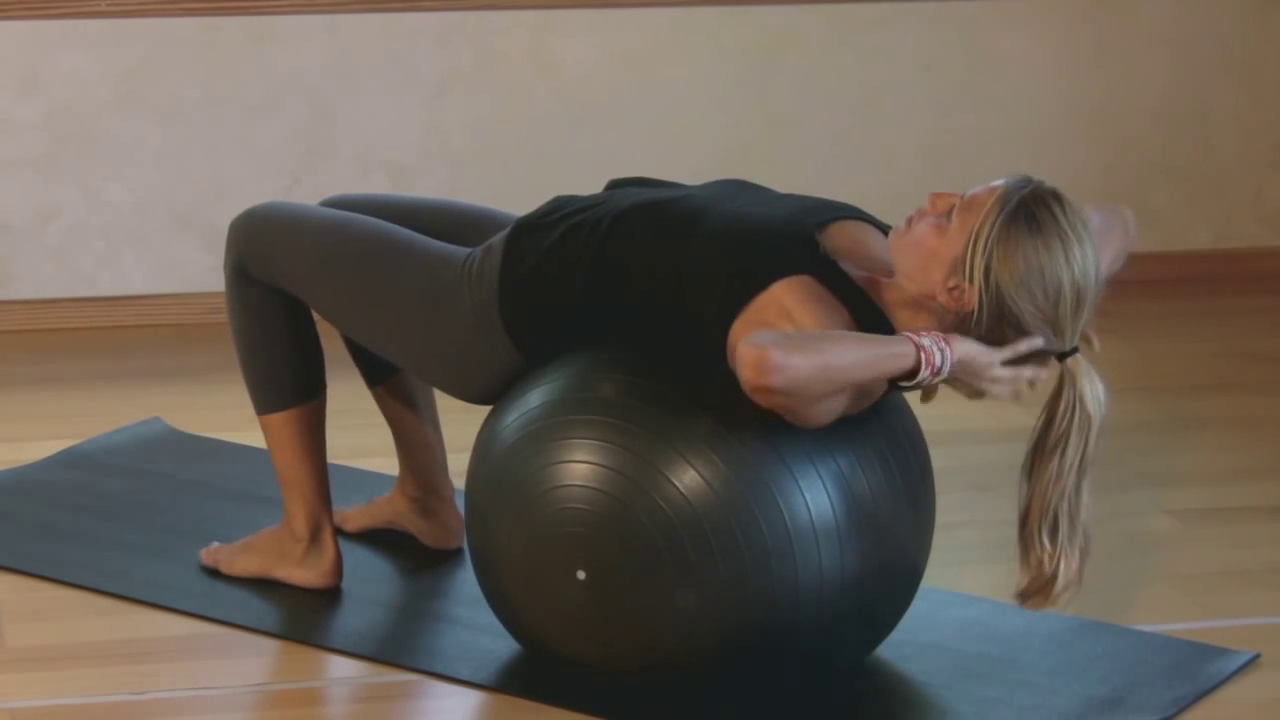yogaball: (461, 331, 942, 699)
